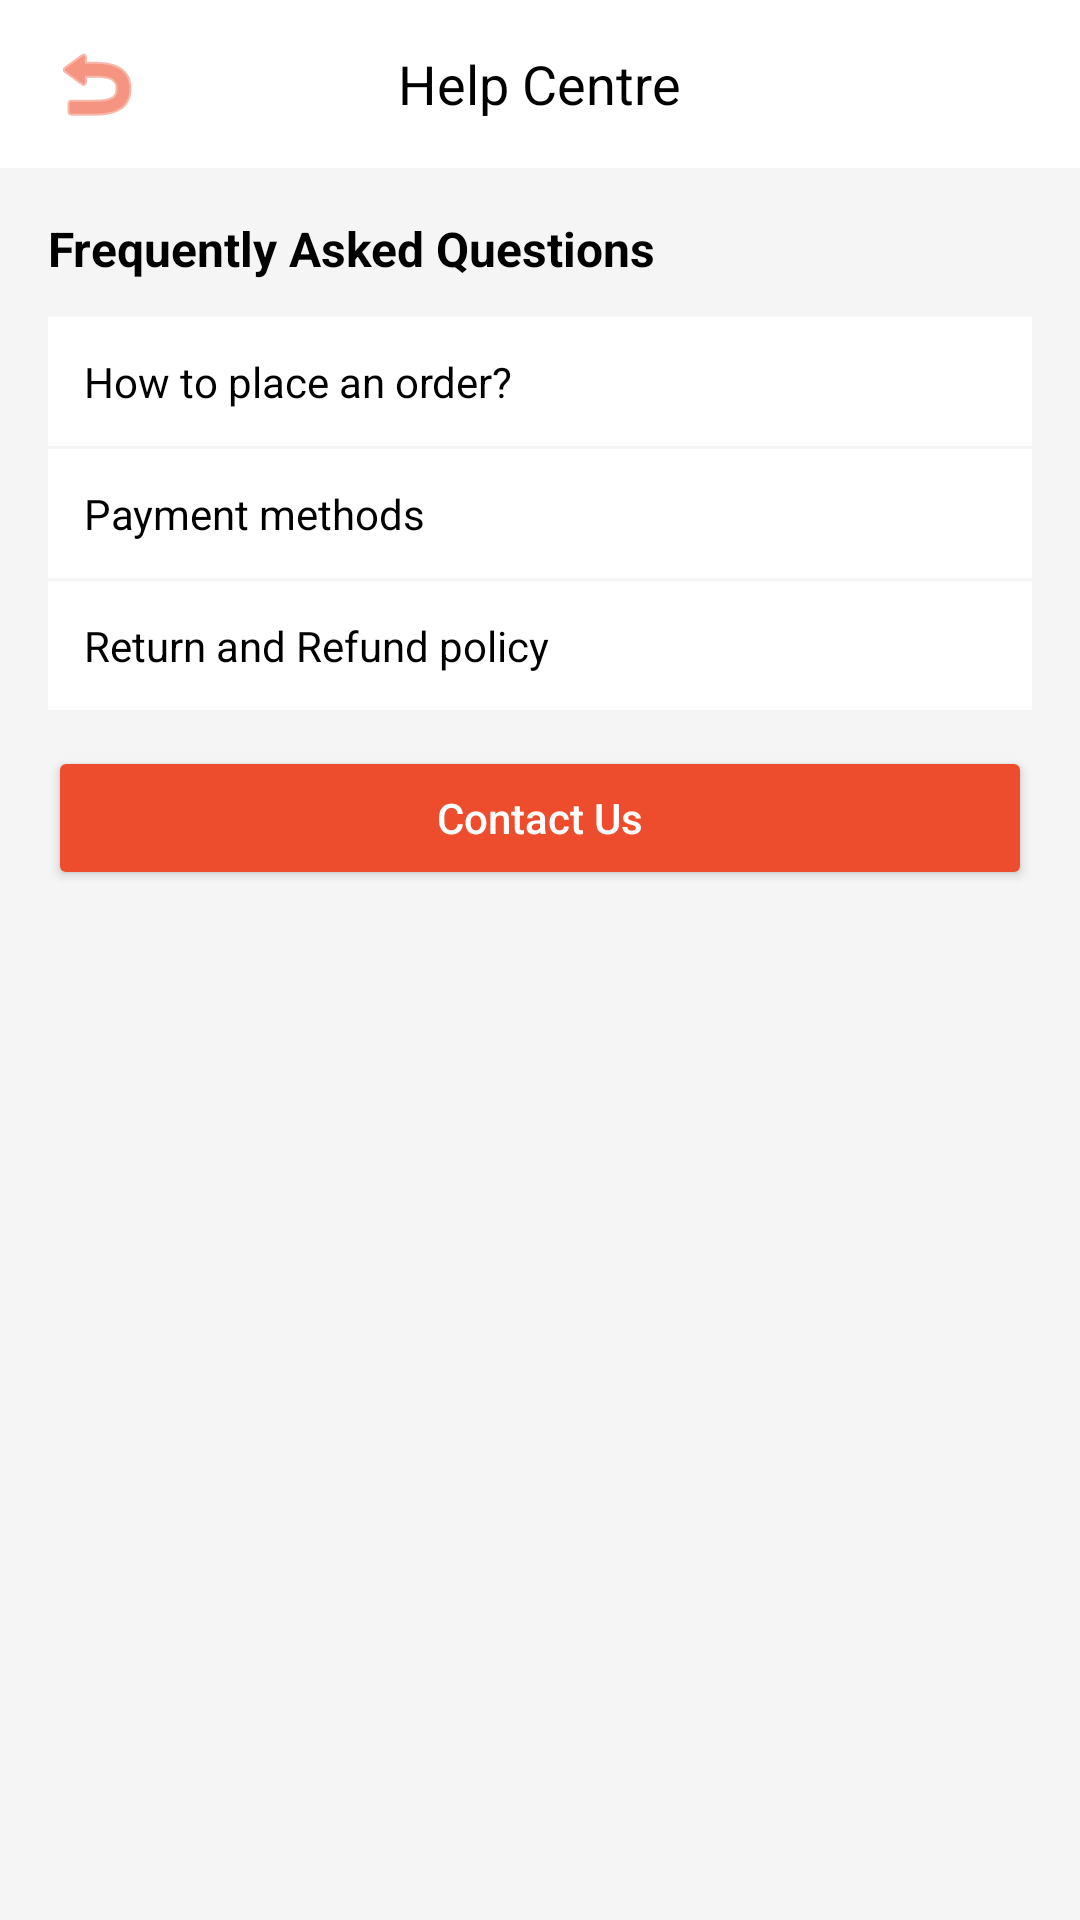

Screen size 1080×1920. Icon name, then its center in pixels as [x,y]:
Back: [97,84]
